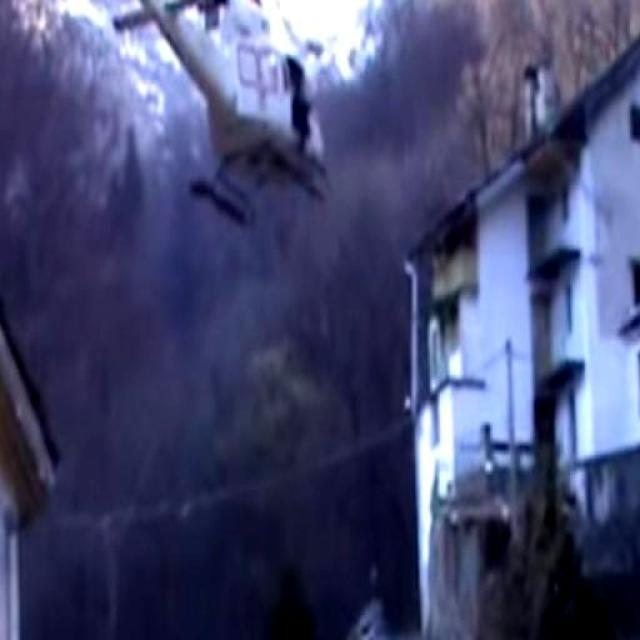drone: (108, 0, 340, 228)
